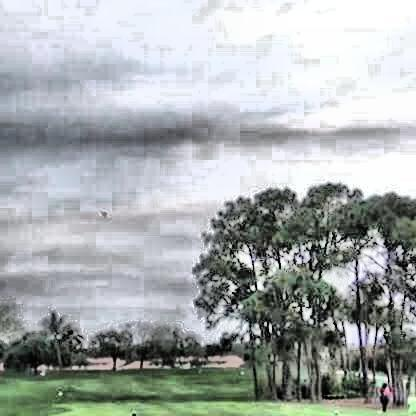golfball: (99, 206, 103, 212)
